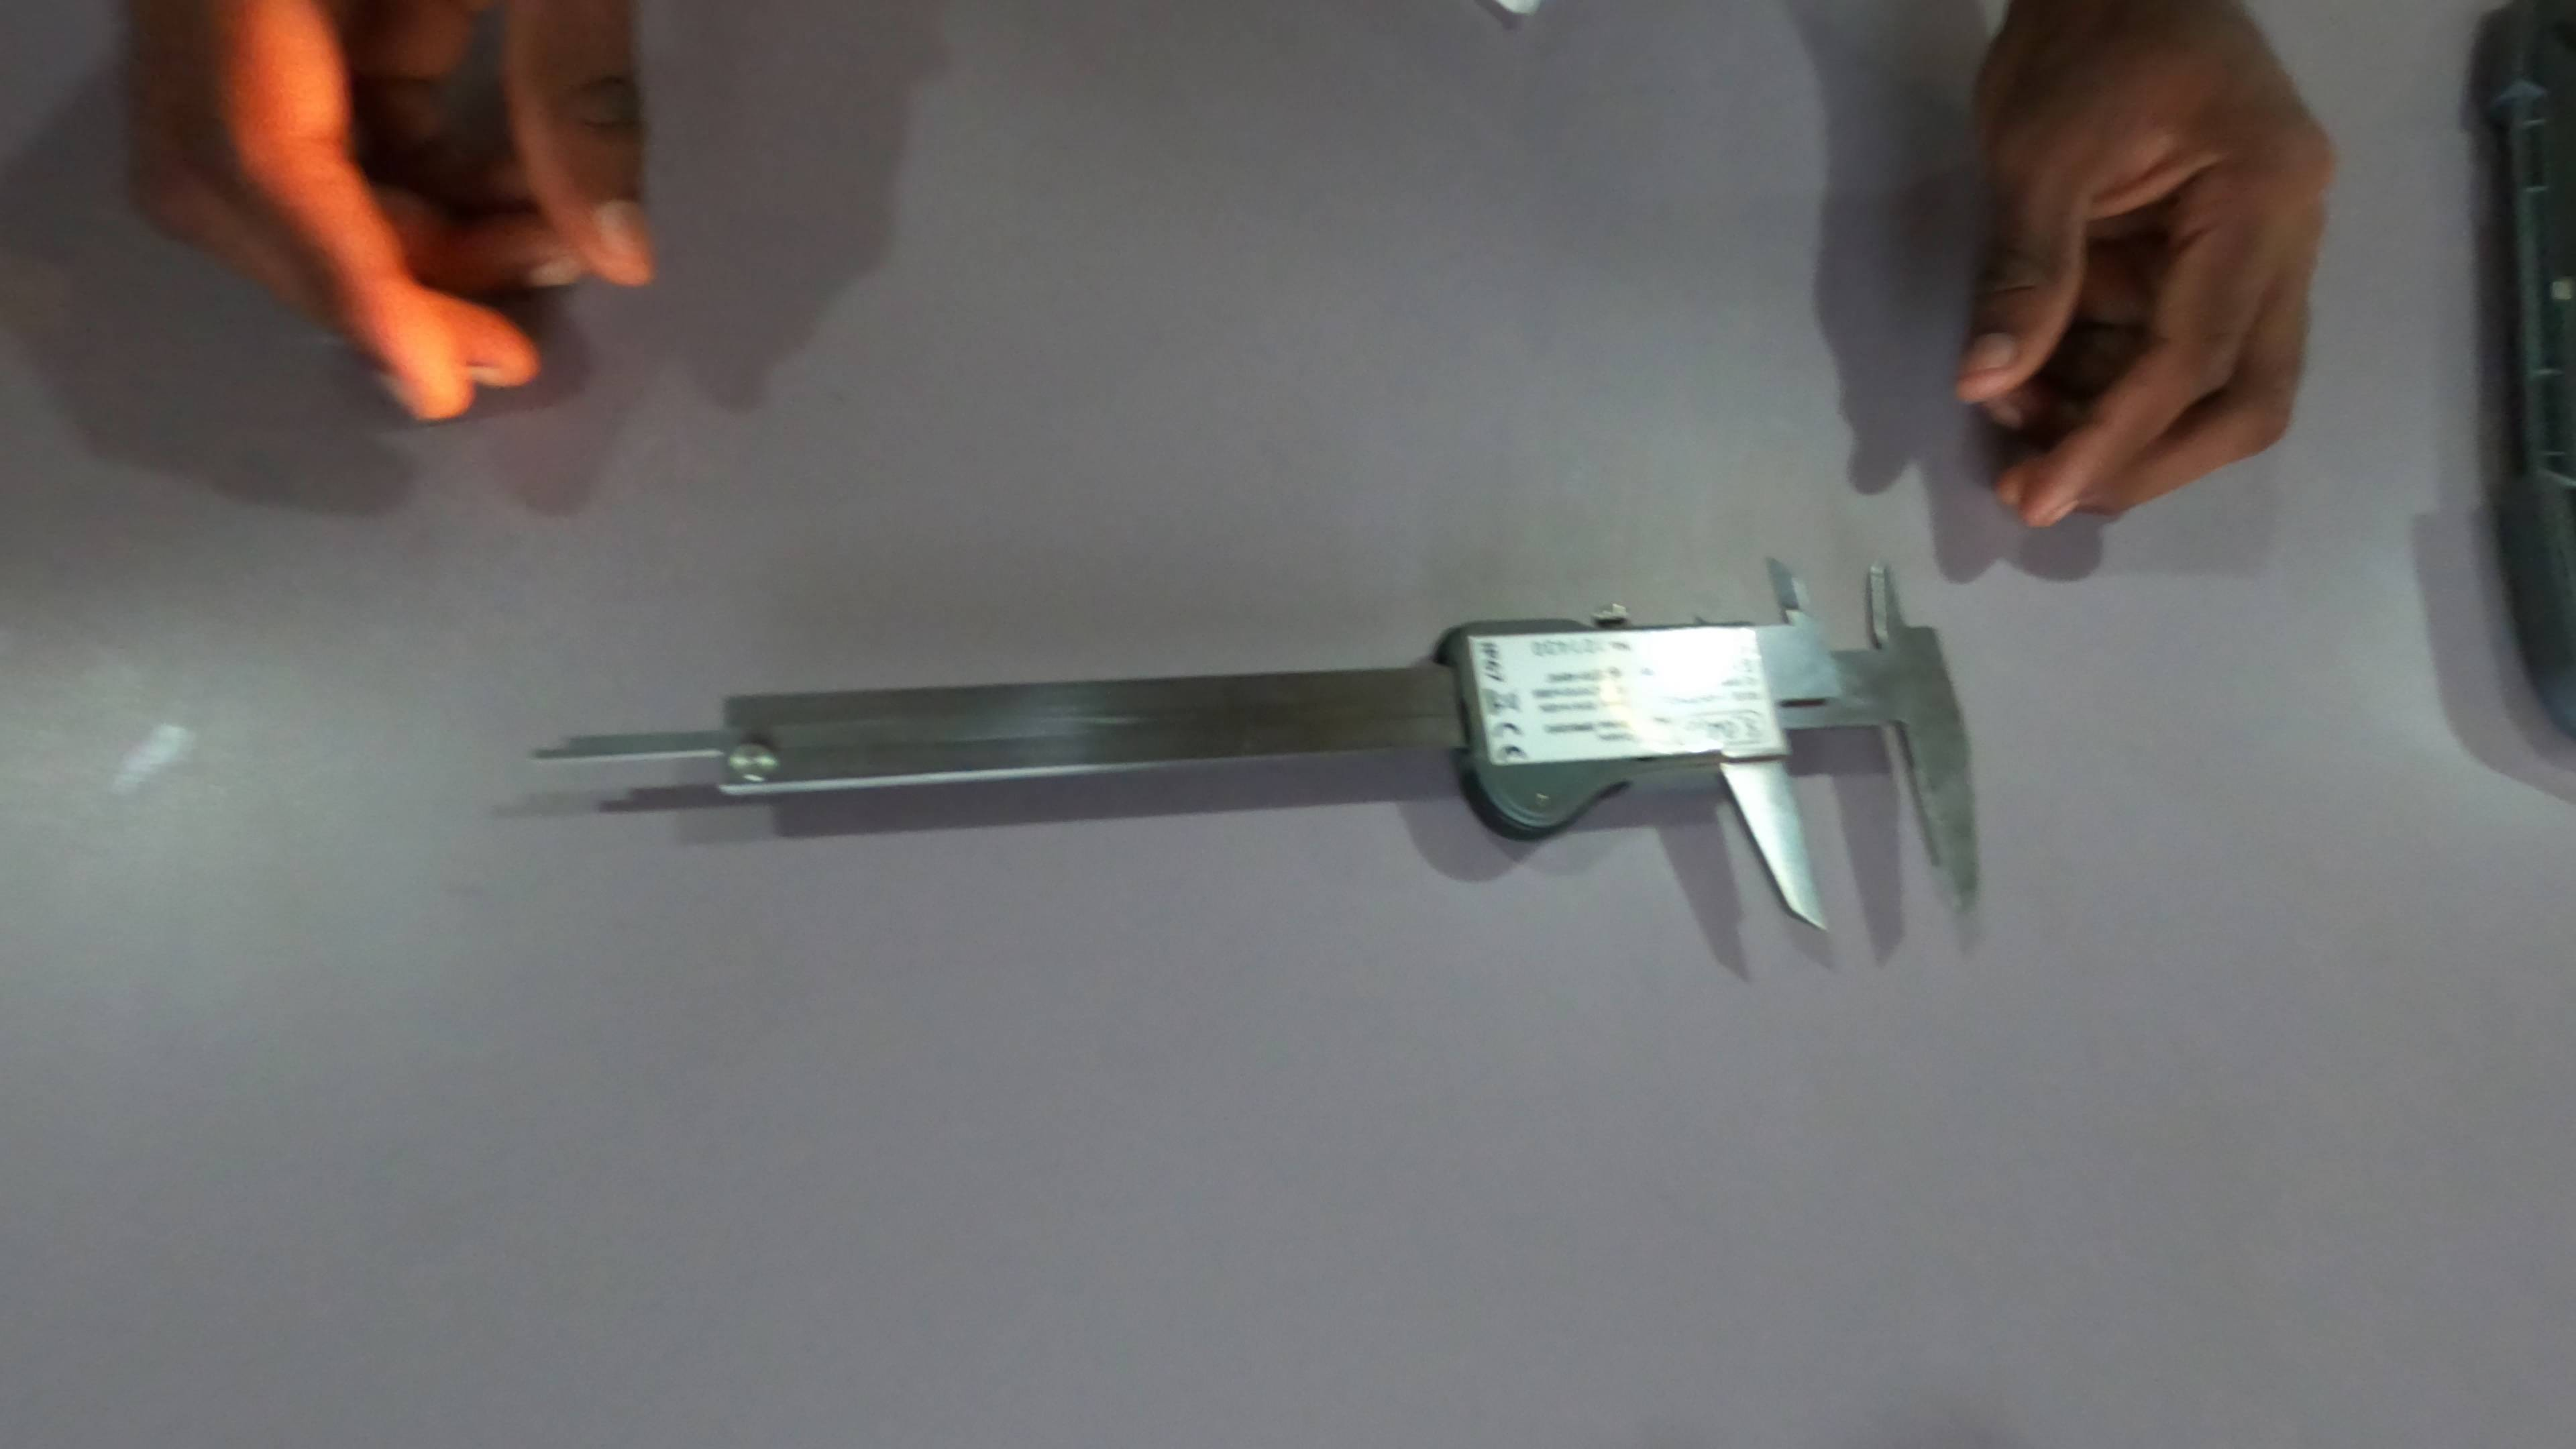vernier_caliper: (518, 547, 1982, 932)
